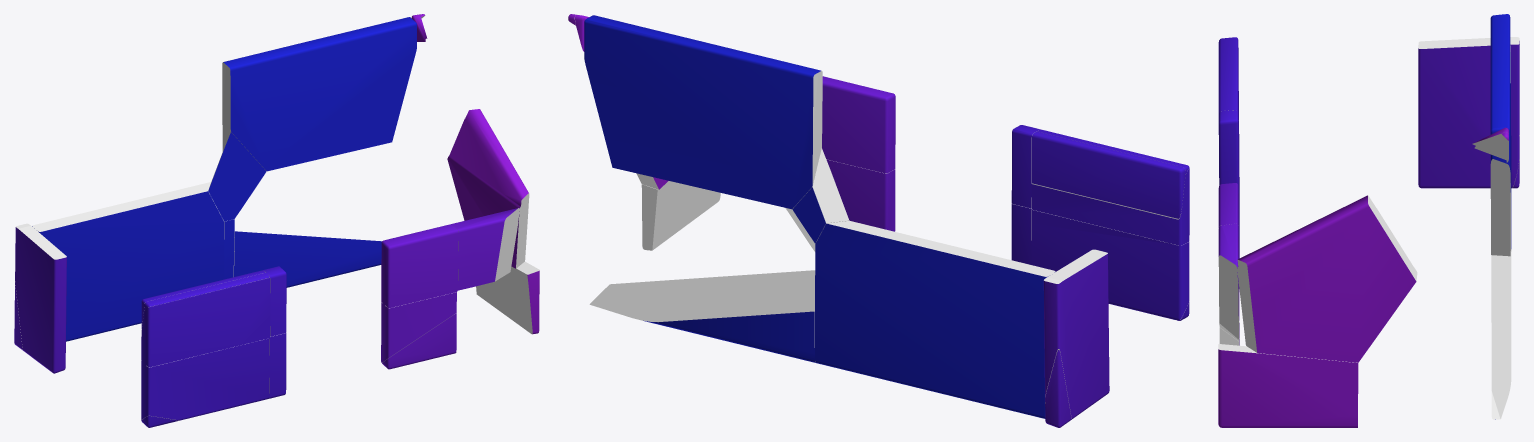
The model's file is Structure_Tower_Knight_Human_02_Destroyed_debris_cells_external_structure_walls.fbx.
3 renders of one model, left to right at view 1: azimuth 30°, elevation 25°; view 2: azimuth 150°, elevation 25°; view 3: azimuth 270°, elevation 25°, orthographic. The views are drawn at different scales.
Parts seen in each view (by area): view 1: Structure_Tower_Knight_Human_02.006_cell.008, Structure_Tower_Knight_Human_02.006_cell.004, Structure_Tower_Knight_Human_02.006_cell.019, Structure_Tower_Knight_Human_02.006_cell.003, Structure_Tower_Knight_Human_02.006_cell.021, Structure_Tower_Knight_Human_02.006_cell.013, Structure_Tower_Knight_Human_02.006_cell.010, Structure_Tower_Knight_Human_02.006_cell.001, Structure_Tower_Knight_Human_02.006_cell.015, Structure_Tower_Knight_Human_02.006_cell.014, Structure_Tower_Knight_Human_02.006_cell.002, Structure_Tower_Knight_Human_02.006_cell.016 (+4 smaller); view 2: Structure_Tower_Knight_Human_02.006_cell.008, Structure_Tower_Knight_Human_02.006_cell.004, Structure_Tower_Knight_Human_02.006_cell.013, Structure_Tower_Knight_Human_02.006_cell.021, Structure_Tower_Knight_Human_02.006_cell.012, Structure_Tower_Knight_Human_02.006_cell.010, Structure_Tower_Knight_Human_02.006_cell.003, Structure_Tower_Knight_Human_02.006_cell.014, Structure_Tower_Knight_Human_02.006_cell.001, Structure_Tower_Knight_Human_02.006_cell.015, Structure_Tower_Knight_Human_02.006_cell.016, Structure_Tower_Knight_Human_02.006_cell.009 (+2 smaller); view 3: Structure_Tower_Knight_Human_02.006_cell.019, Structure_Tower_Knight_Human_02.006_cell.008, Structure_Tower_Knight_Human_02.006_cell.014, Structure_Tower_Knight_Human_02.006_cell.004, Structure_Tower_Knight_Human_02.006_cell.013, Structure_Tower_Knight_Human_02.006_cell.016, Structure_Tower_Knight_Human_02.006_cell.010, Structure_Tower_Knight_Human_02.006_cell.012, Structure_Tower_Knight_Human_02.006_cell.020, Structure_Tower_Knight_Human_02.006_cell.011.
Part boxes in pixels (x1,y1,x2,y2): Structure_Tower_Knight_Human_02.006_cell.008: (15, 182, 224, 373); Structure_Tower_Knight_Human_02.006_cell.004: (222, 17, 416, 171); Structure_Tower_Knight_Human_02.006_cell.019: (447, 109, 529, 290); Structure_Tower_Knight_Human_02.006_cell.003: (141, 277, 270, 367); Structure_Tower_Knight_Human_02.006_cell.021: (141, 338, 269, 420); Structure_Tower_Knight_Human_02.006_cell.013: (233, 231, 381, 287); Structure_Tower_Knight_Human_02.006_cell.010: (381, 224, 458, 307); Structure_Tower_Knight_Human_02.006_cell.001: (381, 292, 456, 362); Structure_Tower_Knight_Human_02.006_cell.015: (208, 132, 266, 221); Structure_Tower_Knight_Human_02.006_cell.014: (476, 261, 539, 334); Structure_Tower_Knight_Human_02.006_cell.002: (382, 313, 456, 369); Structure_Tower_Knight_Human_02.006_cell.016: (264, 266, 286, 336); Structure_Tower_Knight_Human_02.006_cell.008: (815, 220, 1109, 420); Structure_Tower_Knight_Human_02.006_cell.004: (584, 15, 822, 209); Structure_Tower_Knight_Human_02.006_cell.013: (589, 270, 815, 362); Structure_Tower_Knight_Human_02.006_cell.021: (1032, 209, 1189, 320); Structure_Tower_Knight_Human_02.006_cell.012: (1032, 131, 1185, 218); Structure_Tower_Knight_Human_02.006_cell.010: (822, 76, 895, 173); Structure_Tower_Knight_Human_02.006_cell.003: (1031, 167, 1189, 245); Structure_Tower_Knight_Human_02.006_cell.014: (641, 181, 720, 250); Structure_Tower_Knight_Human_02.006_cell.001: (826, 159, 895, 231); Structure_Tower_Knight_Human_02.006_cell.015: (785, 148, 849, 251); Structure_Tower_Knight_Human_02.006_cell.016: (1011, 125, 1040, 208); Structure_Tower_Knight_Human_02.006_cell.009: (1045, 350, 1071, 427); Structure_Tower_Knight_Human_02.006_cell.019: (1218, 195, 1417, 362); Structure_Tower_Knight_Human_02.006_cell.008: (1418, 37, 1519, 251); Structure_Tower_Knight_Human_02.006_cell.014: (1218, 344, 1358, 427); Structure_Tower_Knight_Human_02.006_cell.004: (1490, 14, 1510, 256); Structure_Tower_Knight_Human_02.006_cell.013: (1491, 251, 1511, 419); Structure_Tower_Knight_Human_02.006_cell.016: (1218, 110, 1238, 194); Structure_Tower_Knight_Human_02.006_cell.010: (1218, 183, 1238, 258); Structure_Tower_Knight_Human_02.006_cell.012: (1229, 37, 1238, 120); Structure_Tower_Knight_Human_02.006_cell.020: (1219, 38, 1228, 112); Structure_Tower_Knight_Human_02.006_cell.011: (1472, 127, 1508, 162).
Bounding box in the file's own units: 538 × 300 × 277.
